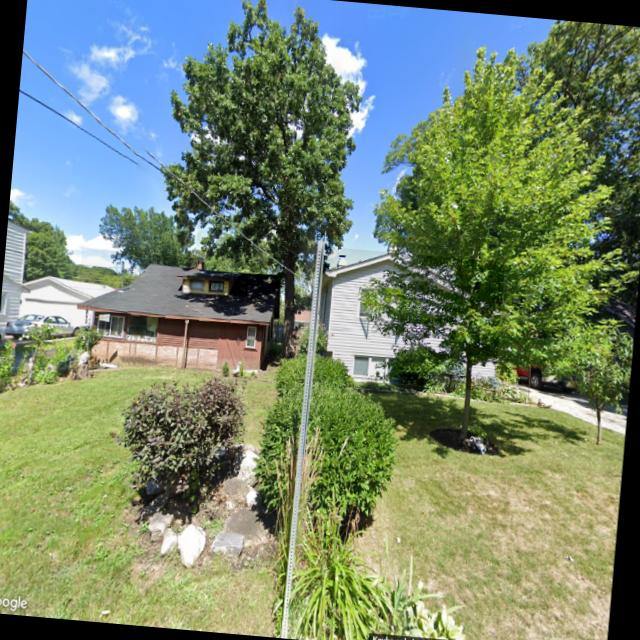House: (314, 246, 505, 392), (72, 247, 284, 376), (18, 273, 116, 328), (0, 216, 36, 340)
